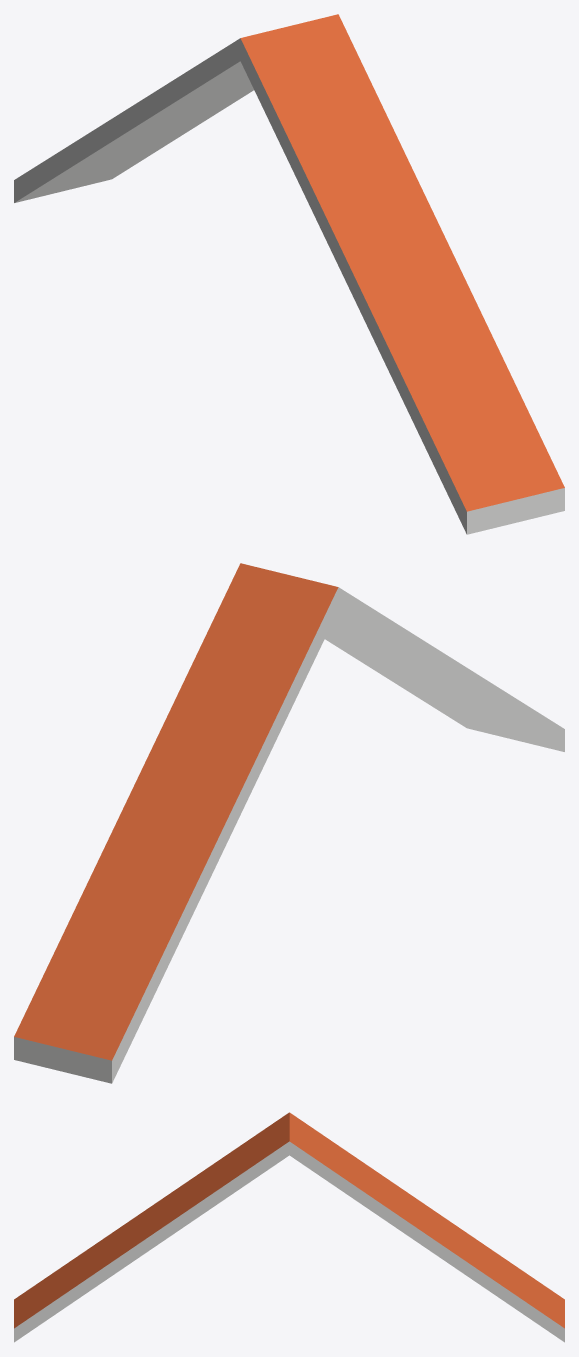
File: telhado_duas_aguas_v4_i75_0_5m.glb
3 renders of one model, top to bottom at view 1: azimuth 30°, elevation 25°; view 2: azimuth 150°, elevation 25°; view 3: azimuth 270°, elevation 25°, orthographic. The views are drawn at different scales.
Visible parts, largest first — view 1: telhado_duas_aguas_v4_i75_0_5m; view 2: telhado_duas_aguas_v4_i75_0_5m; view 3: telhado_duas_aguas_v4_i75_0_5m.
Boxes of the visible parts, <box> form: telhado_duas_aguas_v4_i75_0_5m: <box>14,14,564,534</box>; telhado_duas_aguas_v4_i75_0_5m: <box>14,563,564,1083</box>; telhado_duas_aguas_v4_i75_0_5m: <box>14,1112,564,1342</box>.
Bounding box in the file's own units: 0.5 × 1.61 × 4.
